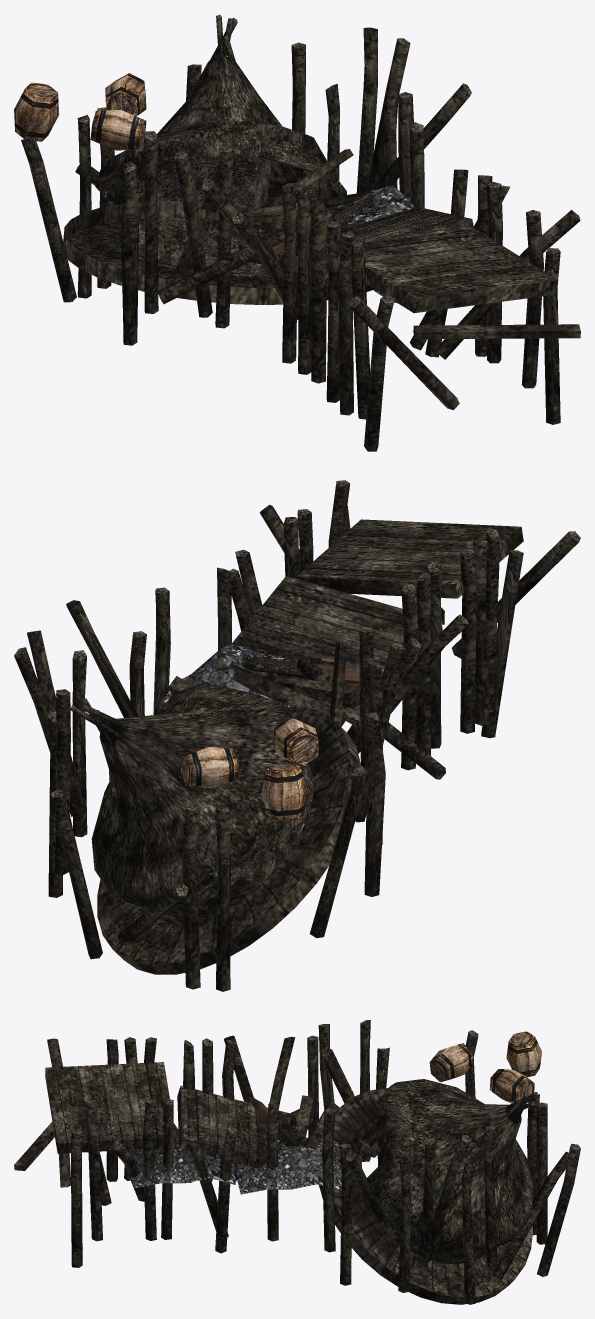
Rendered from rubble_celt_dock.glb.
3 views of the same model, one above another, from view 1: azimuth 30°, elevation 25°; view 2: azimuth 150°, elevation 25°; view 3: azimuth 270°, elevation 25° (orthographic). The views are drawn at different scales.
Parts seen in each view (by area): view 1: rubble_celt_dock_part1, rubble_celt_dock_part2, rubble_celt_dock_part0; view 2: rubble_celt_dock_part1, rubble_celt_dock_part2, rubble_celt_dock_part0; view 3: rubble_celt_dock_part1, rubble_celt_dock_part0, rubble_celt_dock_part2.
Boxes of the visible parts, bbox=[...] form: rubble_celt_dock_part1: bbox=[21, 14, 580, 451]; rubble_celt_dock_part2: bbox=[14, 73, 146, 150]; rubble_celt_dock_part0: bbox=[269, 185, 414, 303]; rubble_celt_dock_part1: bbox=[14, 480, 580, 991]; rubble_celt_dock_part2: bbox=[181, 717, 318, 820]; rubble_celt_dock_part0: bbox=[159, 607, 444, 706]; rubble_celt_dock_part1: bbox=[14, 1020, 580, 1304]; rubble_celt_dock_part0: bbox=[129, 1098, 341, 1194]; rubble_celt_dock_part2: bbox=[429, 1031, 541, 1104].
Bounding box in the file's own units: 3.37 × 2.36 × 5.68.
3 materials, 3 textured.
